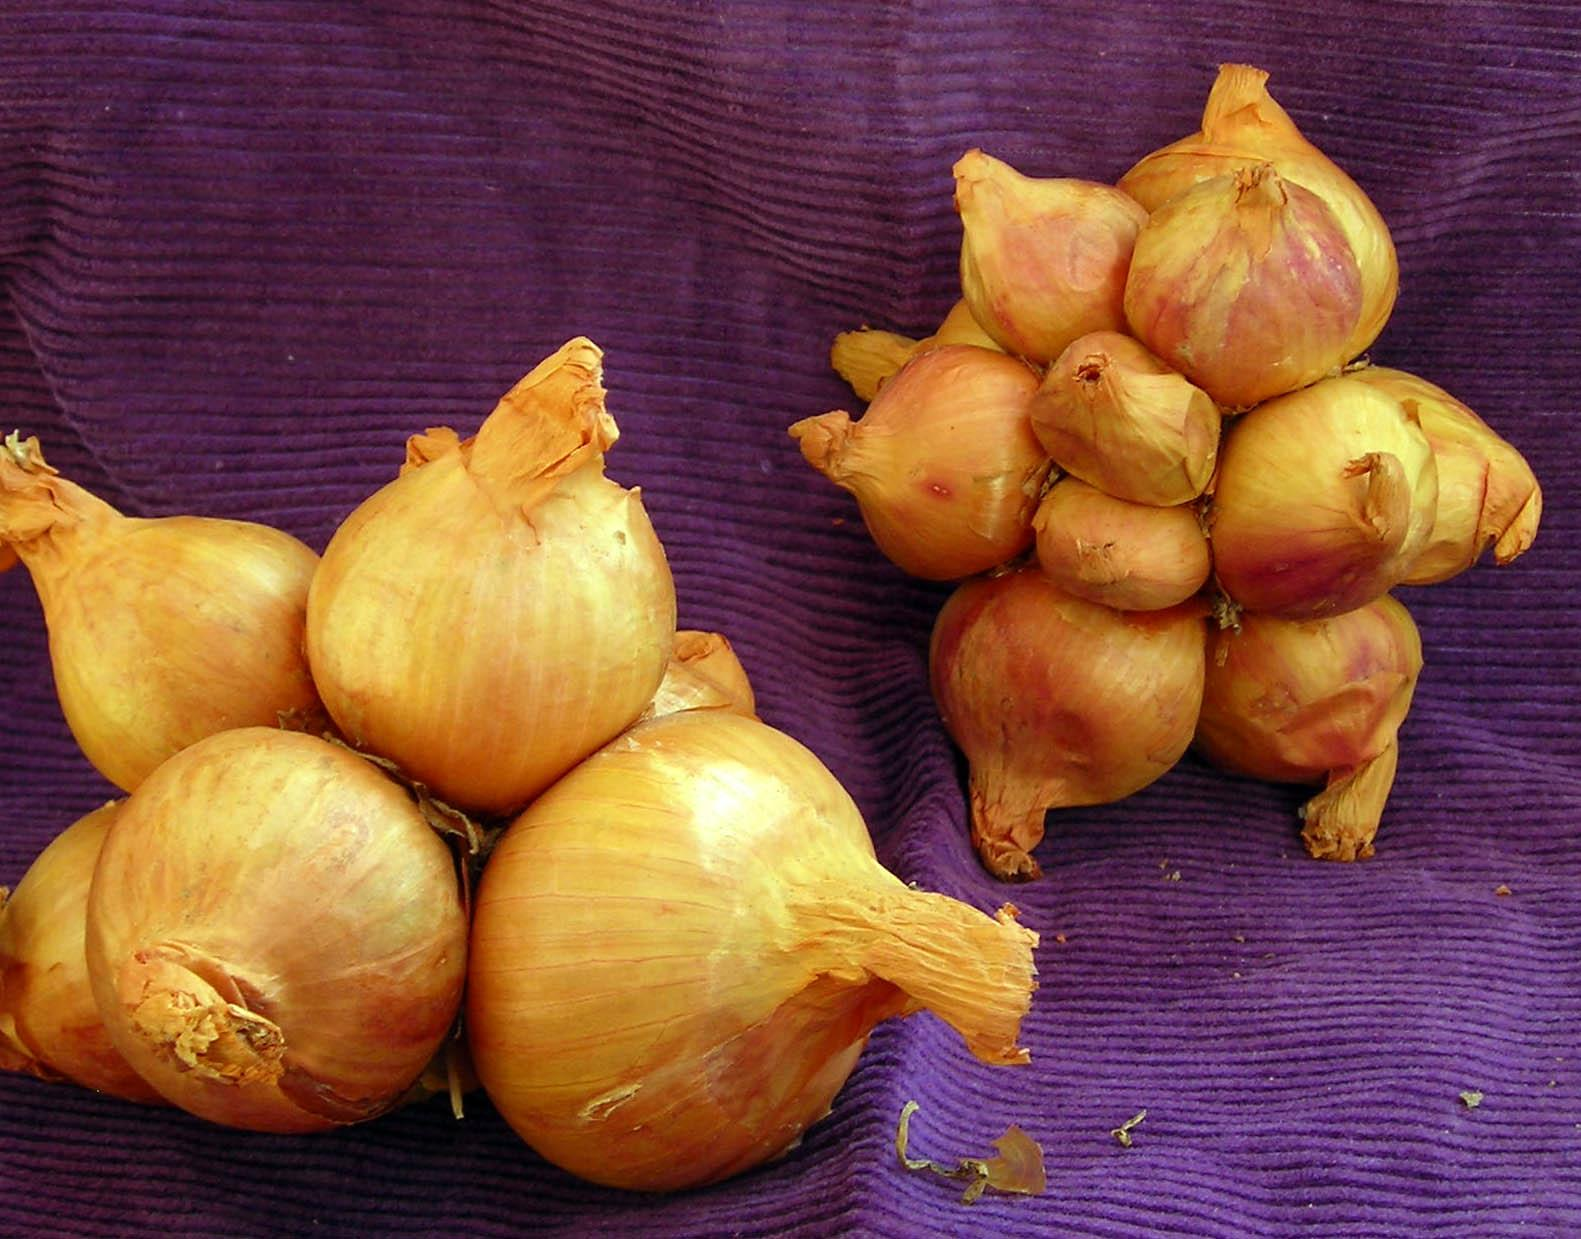onion: (465, 704, 1041, 1193), (303, 333, 678, 816), (83, 724, 473, 1134), (0, 428, 328, 795), (927, 563, 1209, 883), (787, 342, 1054, 581), (1194, 591, 1424, 862), (1208, 377, 1439, 620), (0, 797, 163, 1104), (950, 145, 1149, 366), (1027, 329, 1222, 508), (1030, 473, 1211, 612)
